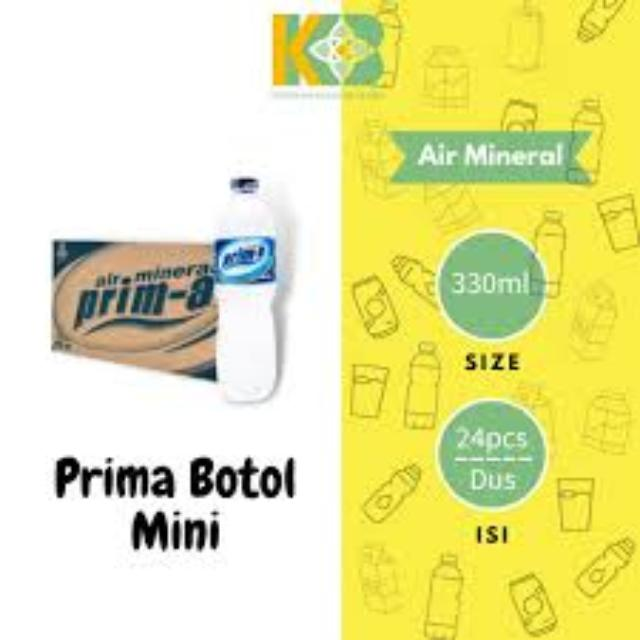trash: (201, 166, 289, 412)
